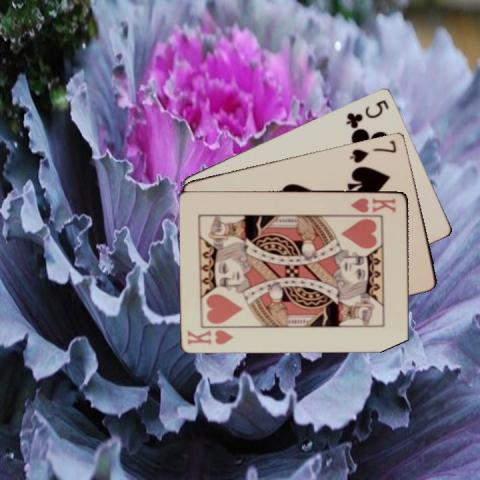5c: (342, 96, 390, 129)
7s: (347, 137, 398, 164)
Kh: (185, 327, 235, 346), (348, 195, 397, 214)
